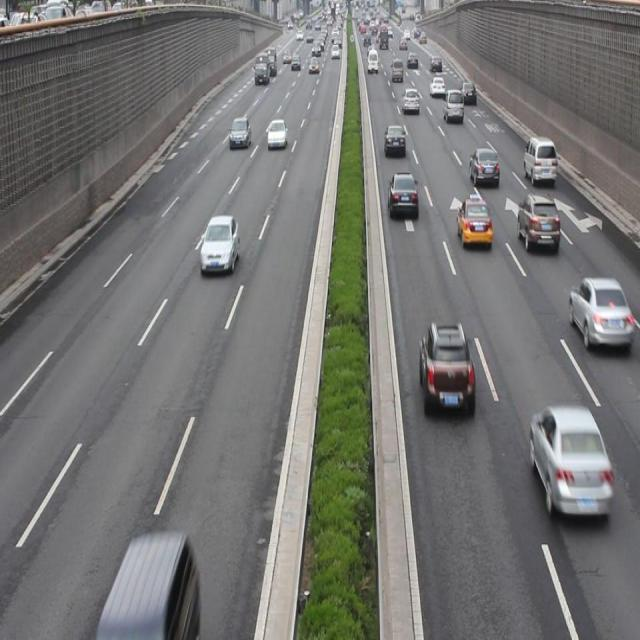car: (530, 402, 609, 516), (419, 320, 474, 417), (570, 273, 630, 349), (517, 193, 558, 249), (201, 214, 238, 274), (457, 194, 491, 248), (388, 169, 418, 217), (472, 145, 499, 186), (230, 116, 252, 151), (385, 121, 405, 154), (266, 118, 286, 150), (443, 90, 463, 119)
truck: (99, 528, 200, 640), (523, 136, 555, 182)
